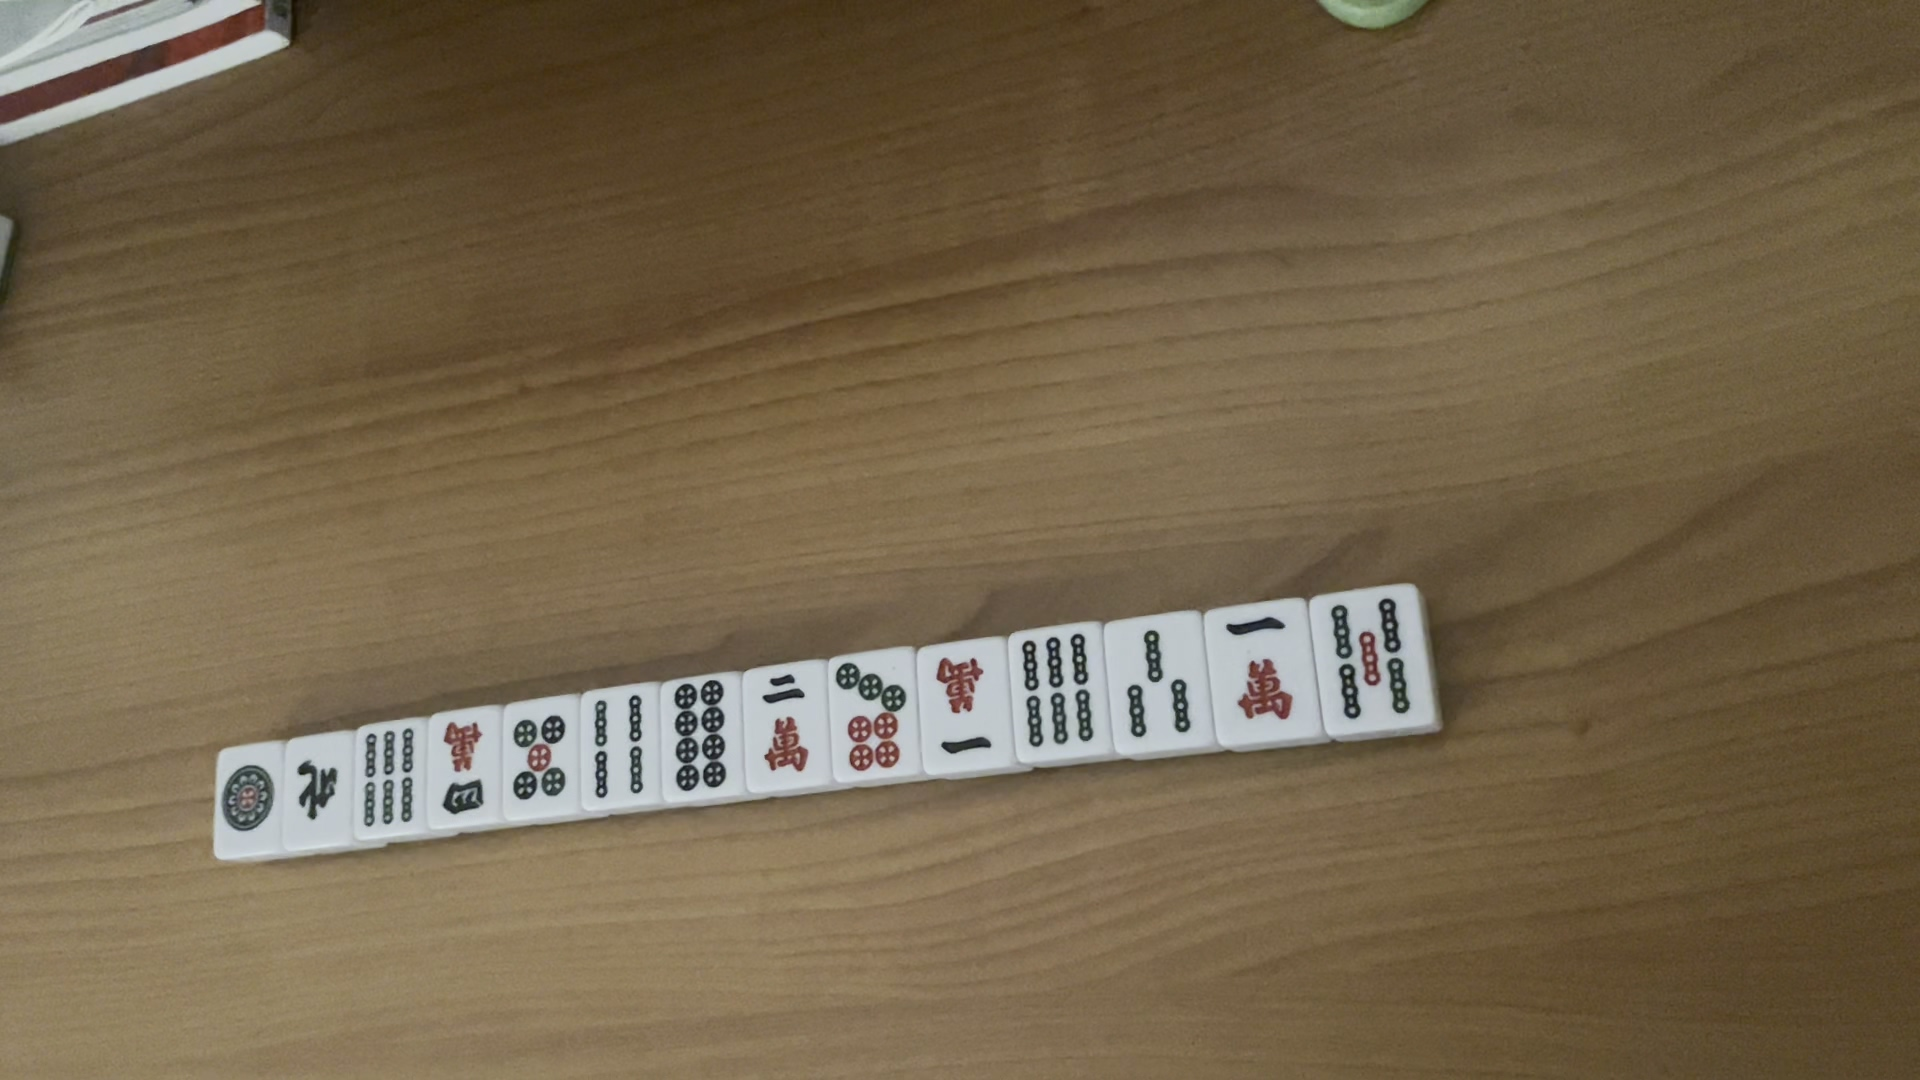b-1: (1116, 628, 1203, 752)
b-4: (589, 691, 647, 795)
b-6: (1015, 624, 1100, 752), (348, 728, 425, 833)
c-1: (1222, 599, 1298, 735), (932, 647, 1004, 762)
c-2: (757, 666, 815, 786)
c-4: (433, 717, 489, 811)
c-5: (1319, 589, 1419, 728)
d-1: (215, 760, 276, 837)
d-5: (510, 705, 571, 808)
d-7: (833, 659, 906, 782)
d-8: (669, 679, 732, 793)
honors-north: (290, 750, 345, 824)
